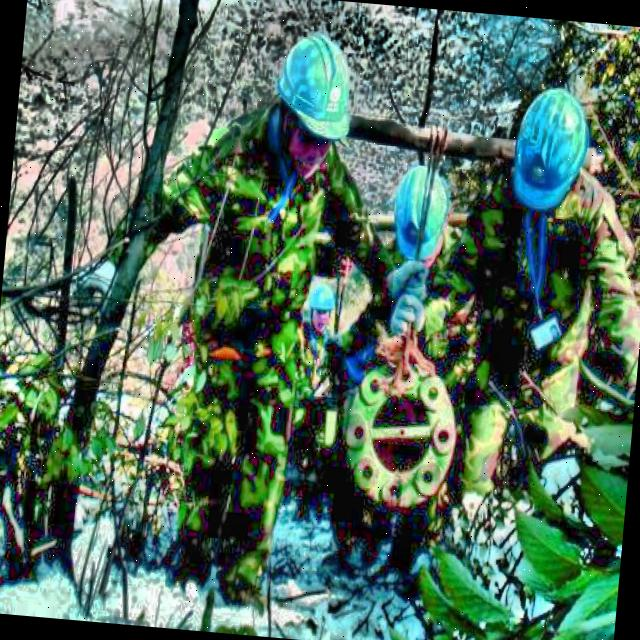helmet: (266, 24, 361, 181), (508, 81, 598, 228), (382, 156, 449, 280), (298, 276, 340, 334)
